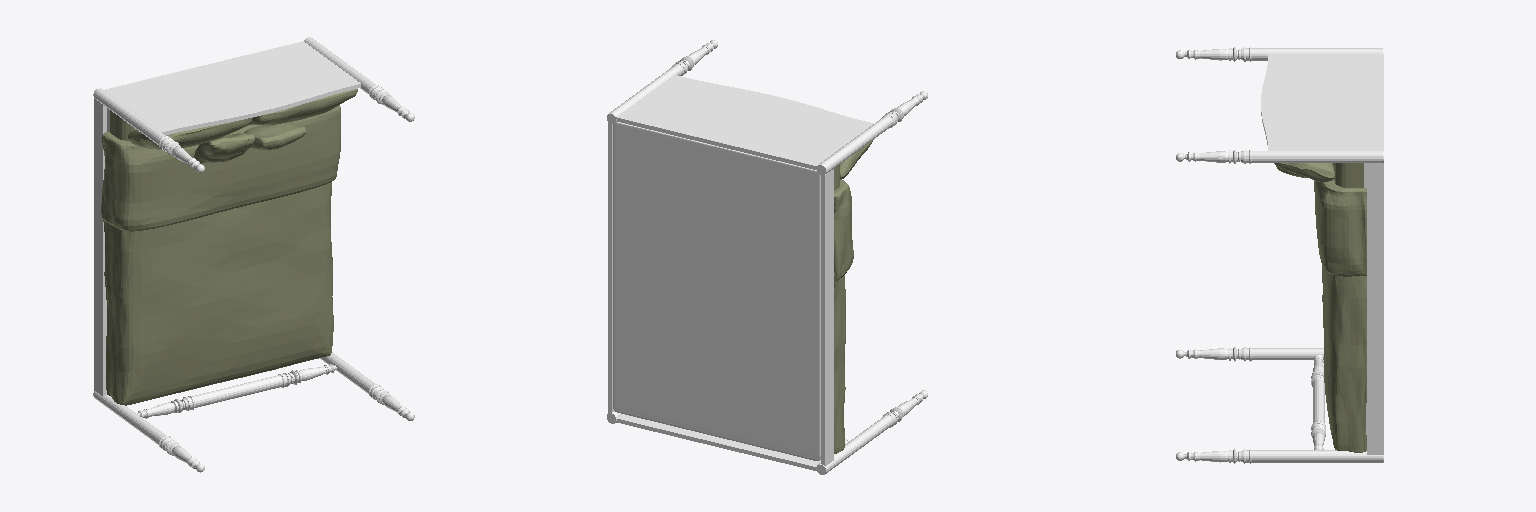
The model's file is 14318_Full_Size_Bed_with_Thyme_Sheets_v1_l1.obj.
3 renders of one model, left to right at view 1: azimuth 30°, elevation 25°; view 2: azimuth 150°, elevation 25°; view 3: azimuth 270°, elevation 25°, orthographic.
Parts seen in each view (by area): view 1: Box10731, Box10737, Box10728, Cylinder4974, Cylinder4975, Cylinder4976, Box10730, Box10732, Box10734, Cylinder4978, Cylinder4977, Box10733; view 2: Box10736, Box10737, Box10728, Box10731, Box10735, Cylinder4975, Box10727, Cylinder4976, Cylinder4978; view 3: Box10731, Box10737, Box10727, Cylinder4978, Cylinder4977, Cylinder4975, Cylinder4976, Cylinder4974, Box10732, Box10729.
Part boxes in pixels (left/top/right/bottom): Box10731: left=101, top=105, right=340, bottom=405; Box10737: left=104, top=41, right=360, bottom=134; Box10728: left=94, top=98, right=106, bottom=396; Cylinder4974: left=137, top=364, right=336, bottom=418; Cylinder4975: left=93, top=88, right=199, bottom=169; Cylinder4976: left=93, top=391, right=199, bottom=468; Box10730: left=128, top=118, right=251, bottom=149; Box10732: left=249, top=89, right=357, bottom=125; Box10734: left=194, top=133, right=254, bottom=163; Cylinder4978: left=304, top=37, right=409, bottom=118; Cylinder4977: left=320, top=352, right=409, bottom=417; Box10733: left=244, top=122, right=305, bottom=149; Box10736: left=613, top=122, right=820, bottom=460; Box10737: left=616, top=75, right=873, bottom=169; Box10728: left=821, top=169, right=833, bottom=466; Box10731: left=834, top=180, right=853, bottom=453; Box10735: left=616, top=414, right=820, bottom=470; Cylinder4975: left=816, top=94, right=922, bottom=174; Box10727: left=608, top=122, right=613, bottom=413; Cylinder4976: left=816, top=394, right=922, bottom=474; Cylinder4978: left=607, top=43, right=713, bottom=123; Box10731: left=1314, top=179, right=1366, bottom=452; Box10737: left=1261, top=54, right=1383, bottom=150; Box10727: left=1367, top=163, right=1383, bottom=454; Cylinder4978: left=1184, top=150, right=1383, bottom=163; Cylinder4977: left=1184, top=449, right=1383, bottom=463; Cylinder4975: left=1184, top=47, right=1383, bottom=61; Cylinder4976: left=1184, top=347, right=1323, bottom=361; Cylinder4974: left=1311, top=354, right=1325, bottom=449; Box10732: left=1274, top=163, right=1334, bottom=181; Box10729: left=1333, top=163, right=1363, bottom=187.
Bounding box in the file's own units: 150 × 199 × 120.